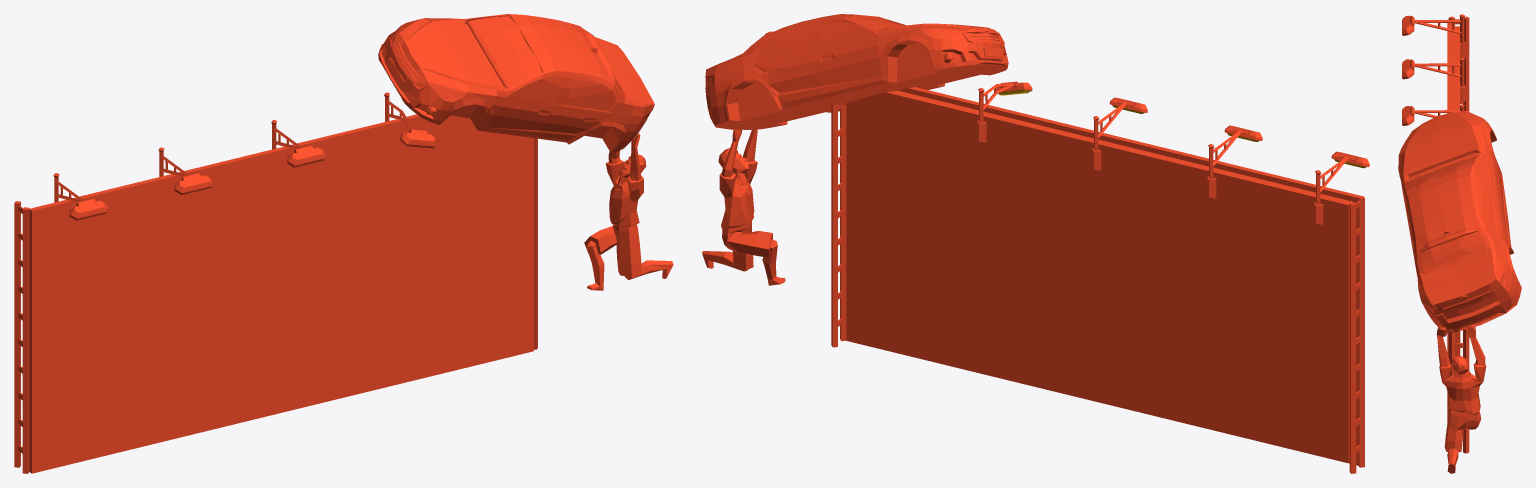
File: SM_Billboard_Tow_City.fbx
3 views of the same model, side by side, from view 1: azimuth 30°, elevation 25°; view 2: azimuth 150°, elevation 25°; view 3: azimuth 270°, elevation 25° (orthographic). The views are drawn at different scales.
Parts seen in each view (by area): view 1: SM_Billboard_Tow_City; view 2: SM_Billboard_Tow_City; view 3: SM_Billboard_Tow_City.
Part boxes in pixels (x1,y1,x2,y2): SM_Billboard_Tow_City: (14, 14, 673, 473); SM_Billboard_Tow_City: (702, 14, 1369, 473); SM_Billboard_Tow_City: (1398, 14, 1521, 473).
Size of the model in its own units: 6.47 by 3.25 by 1.26.
